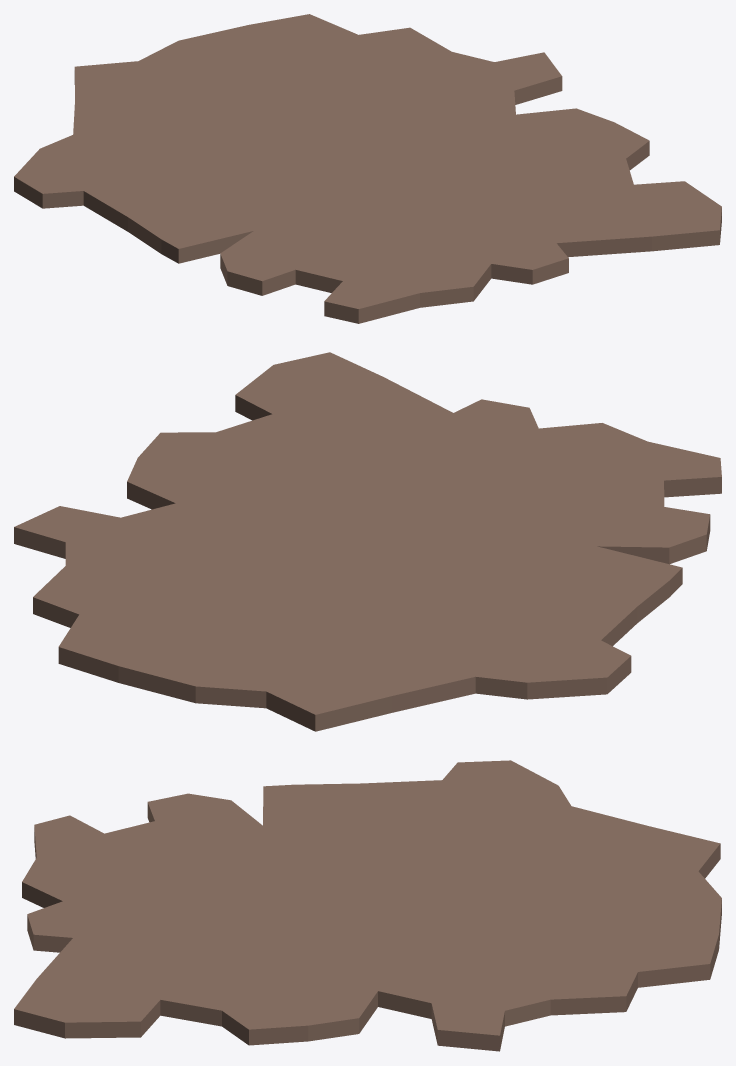
Rendered from SM_island09.fbx.
3 renders of one model, top to bottom at view 1: azimuth 30°, elevation 25°; view 2: azimuth 150°, elevation 25°; view 3: azimuth 270°, elevation 25°, orthographic. The views are drawn at different scales.
Parts seen in each view (by area): view 1: SM_island09; view 2: SM_island09; view 3: SM_island09.
Part boxes in pixels (<box>): SM_island09: <box>14,14,721,323</box>; SM_island09: <box>14,352,721,731</box>; SM_island09: <box>14,760,721,1051</box>.
Size of the model in its own units: 4351 by 117 by 4730.
